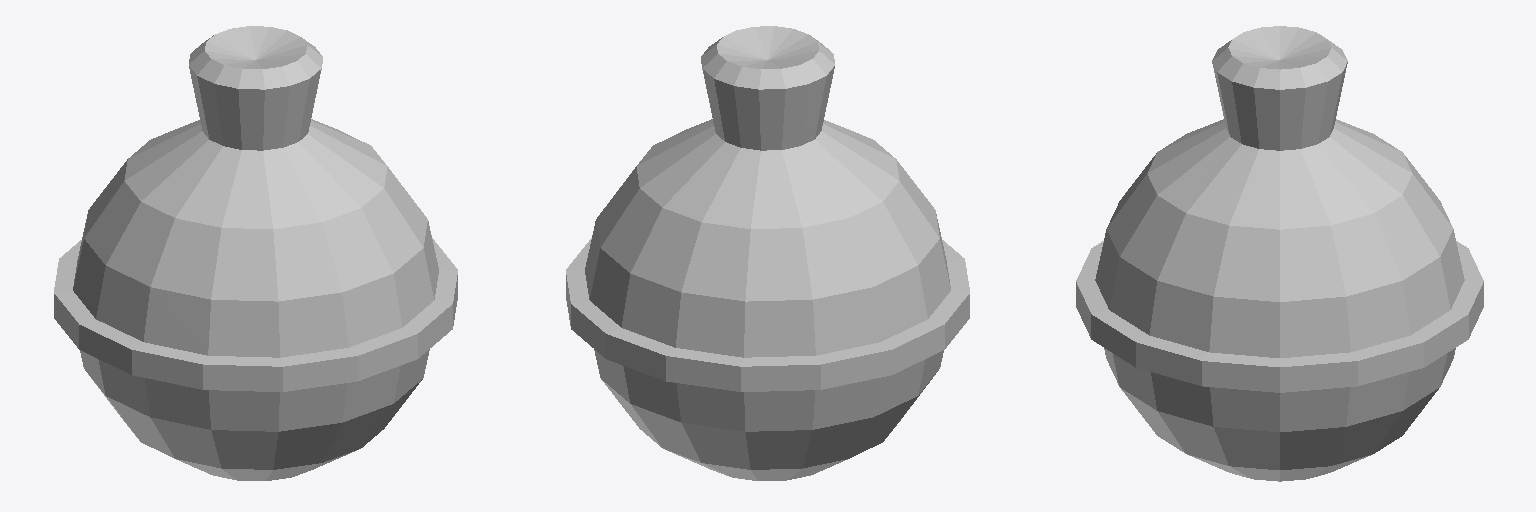
The model's file is fishingpole_bobber.obj.
The picture shows the model from 3 angles: view 1: azimuth 30°, elevation 25°; view 2: azimuth 150°, elevation 25°; view 3: azimuth 270°, elevation 25°; orthographic projection.
Visible parts, largest first — view 1: fishingpole_bobber_Sphere.004; view 2: fishingpole_bobber_Sphere.004; view 3: fishingpole_bobber_Sphere.004.
Boxes of the visible parts, <box> form: fishingpole_bobber_Sphere.004: <box>54,26,457,480</box>; fishingpole_bobber_Sphere.004: <box>566,26,969,480</box>; fishingpole_bobber_Sphere.004: <box>1076,26,1483,481</box>.
Bounding box in the file's own units: 0.2178 × 0.2453 × 0.2178.